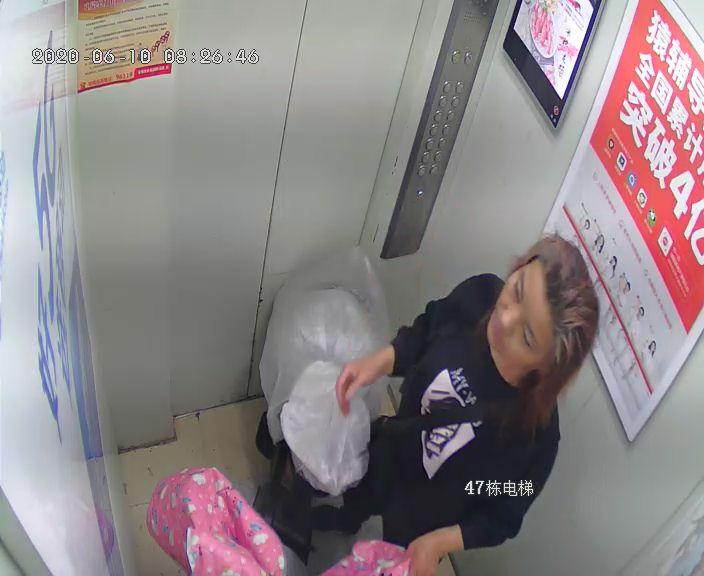Electric-bicycle: (234, 263, 378, 569)
